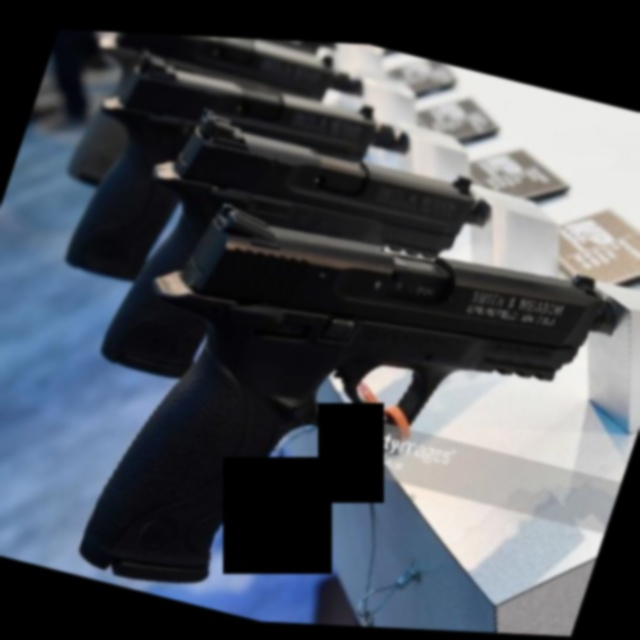gun: (70, 173, 586, 636), (158, 96, 503, 263), (99, 35, 409, 174)
